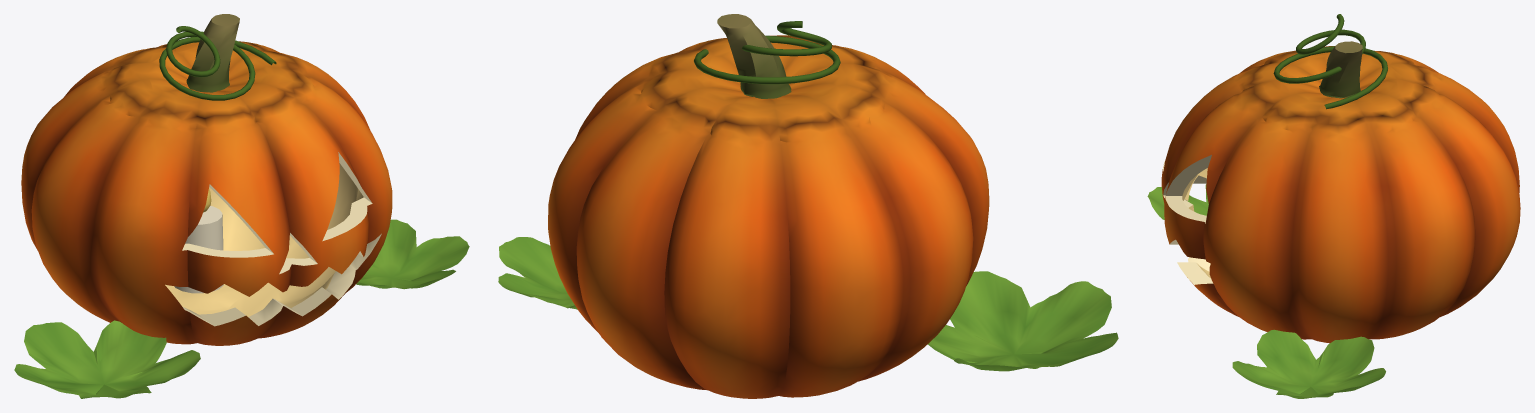
Rendered from hero_lantern.glb.
The picture shows the model from 3 angles, left to right: view 1: azimuth 30°, elevation 25°; view 2: azimuth 150°, elevation 25°; view 3: azimuth 270°, elevation 25°; orthographic projection. The views are drawn at different scales.
Visible parts, largest first — view 1: Pumpkin, Leaf_0, Leaf_1, Vine, Stem, Candle; view 2: Pumpkin, Leaf_0, Leaf_1, Stem, Vine; view 3: Pumpkin, Leaf_1, Vine, Stem, Leaf_0.
Part boxes in pixels (bbox=[...]): Pumpkin: bbox=[21, 41, 392, 345]; Leaf_0: bbox=[14, 320, 200, 398]; Leaf_1: bbox=[356, 219, 469, 289]; Vine: bbox=[159, 26, 276, 100]; Stem: bbox=[186, 14, 239, 92]; Candle: bbox=[174, 206, 223, 293]; Pumpkin: bbox=[548, 35, 989, 398]; Leaf_0: bbox=[928, 271, 1118, 371]; Leaf_1: bbox=[498, 237, 577, 309]; Stem: bbox=[717, 14, 791, 98]; Vine: bbox=[694, 21, 840, 84]; Pumpkin: bbox=[1161, 46, 1520, 343]; Leaf_1: bbox=[1232, 329, 1385, 398]; Vine: bbox=[1273, 14, 1387, 109]; Stem: bbox=[1319, 41, 1362, 98]; Leaf_0: bbox=[1147, 184, 1208, 219].
Size of the model in its own units: 1.48 by 0.8575 by 1.03.
